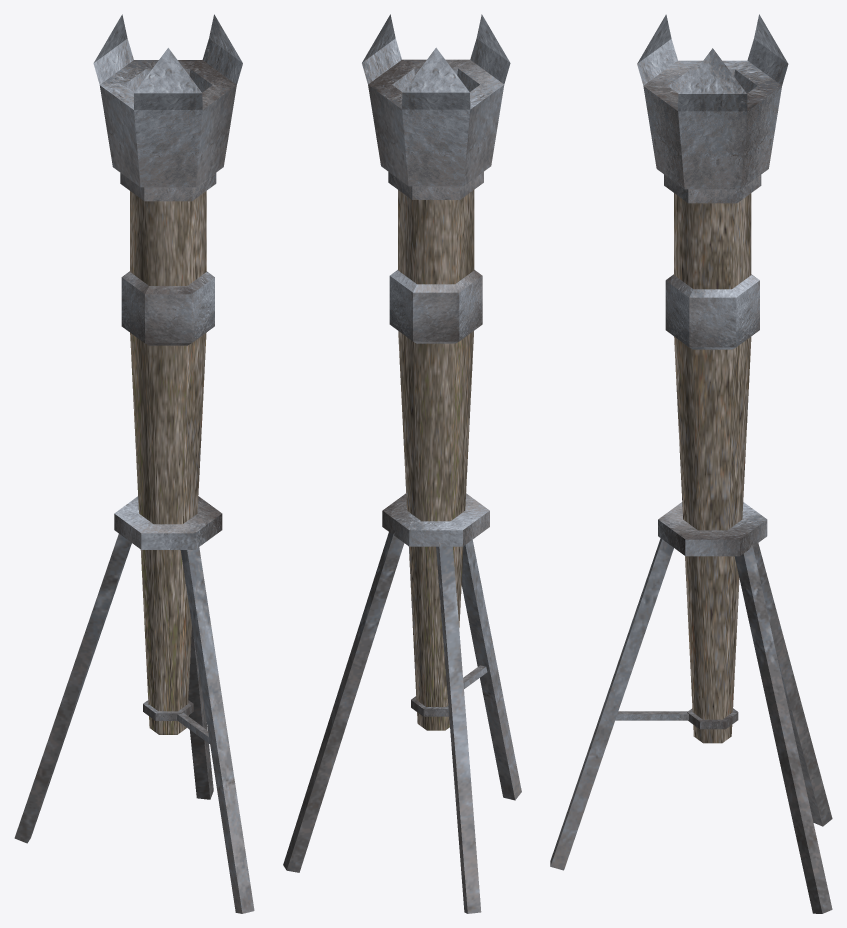
The model's file is Torch Mesh.fbx.
The picture shows the model from 3 angles, left to right: view 1: azimuth 30°, elevation 25°; view 2: azimuth 150°, elevation 25°; view 3: azimuth 270°, elevation 25°; orthographic projection.
Visible parts, largest first — view 1: Cylinder.003, Cylinder.002; view 2: Cylinder.003, Cylinder.002; view 3: Cylinder.003, Cylinder.002.
Boxes of the visible parts, <box> form: Cylinder.003: <box>14,14,254,913</box>; Cylinder.002: <box>130,191,206,734</box>; Cylinder.003: <box>283,14,521,913</box>; Cylinder.002: <box>398,190,474,730</box>; Cylinder.003: <box>550,14,832,913</box>; Cylinder.002: <box>674,193,751,743</box>.
Bounding box in the file's own units: 103 × 413 × 125.
